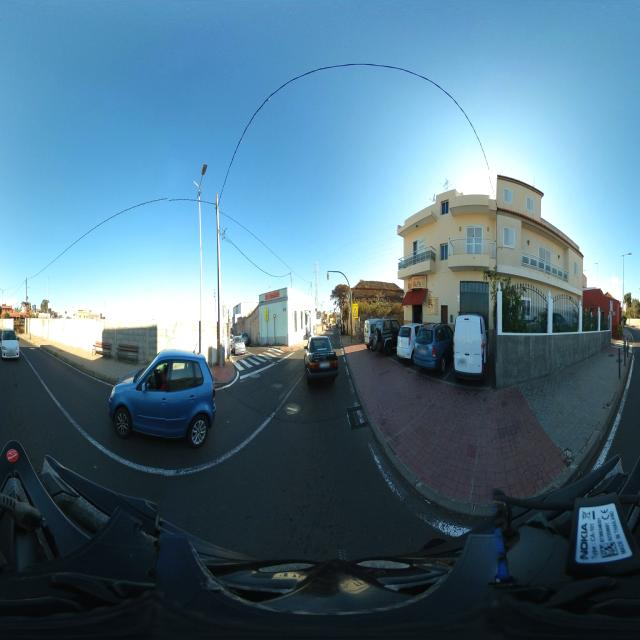car: (108, 350, 216, 451), (453, 313, 489, 384), (413, 322, 455, 376), (304, 333, 339, 388), (396, 322, 424, 364), (375, 319, 400, 355), (0, 327, 21, 362), (364, 316, 382, 350)
